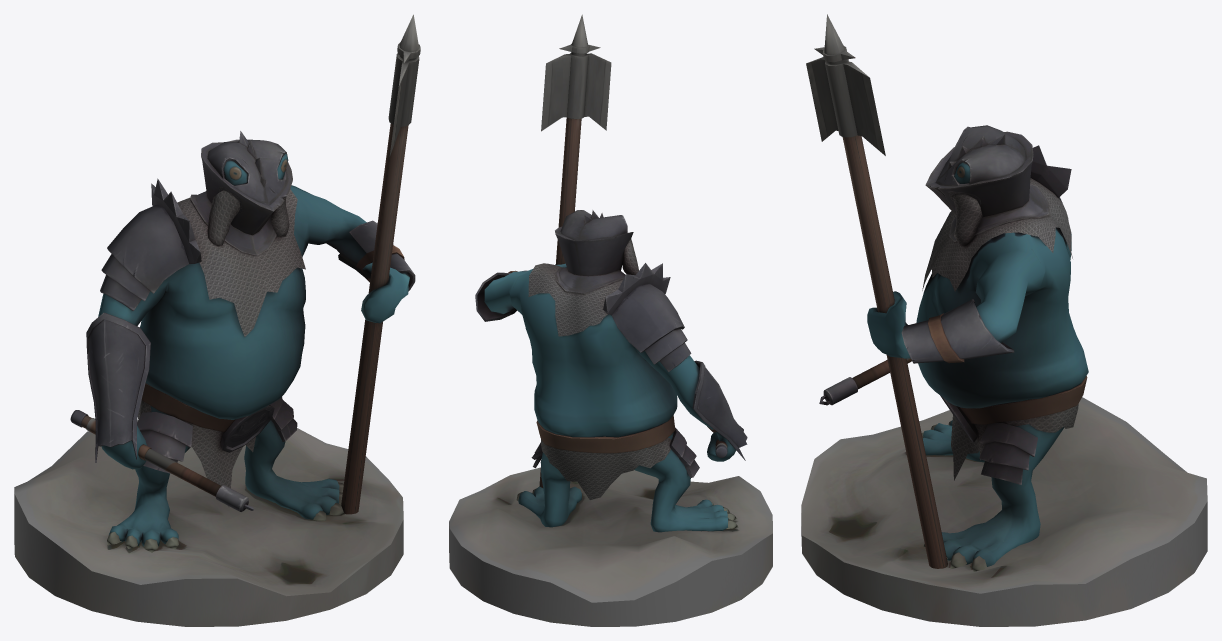
Rendered from Char_Enem_Marcello.glb.
3 views of the same model, side by side, from view 1: azimuth 30°, elevation 25°; view 2: azimuth 150°, elevation 25°; view 3: azimuth 270°, elevation 25° (orthographic). The views are drawn at different scales.
Parts seen in each view (by area): view 1: pCylinder49; view 2: pCylinder49; view 3: pCylinder49.
Boxes of the visible parts, <box> form: pCylinder49: <box>14,14,420,626</box>; pCylinder49: <box>449,14,772,626</box>; pCylinder49: <box>801,14,1207,626</box>.
Bounding box in the file's own units: 1.52 × 2.43 × 1.52.
Materials: 2 (2 with a texture image).
